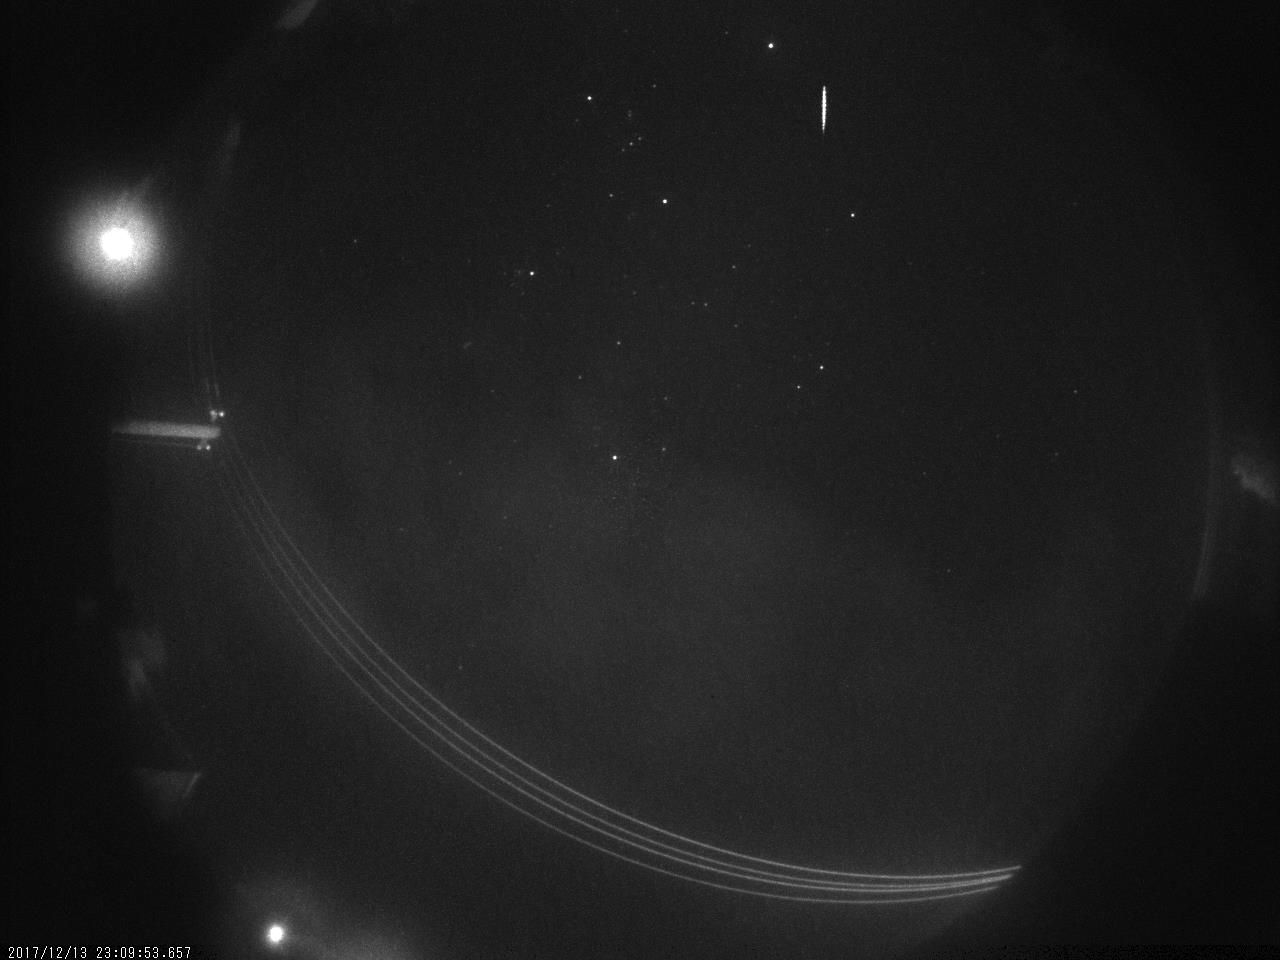meteor: (809, 80, 842, 137)
